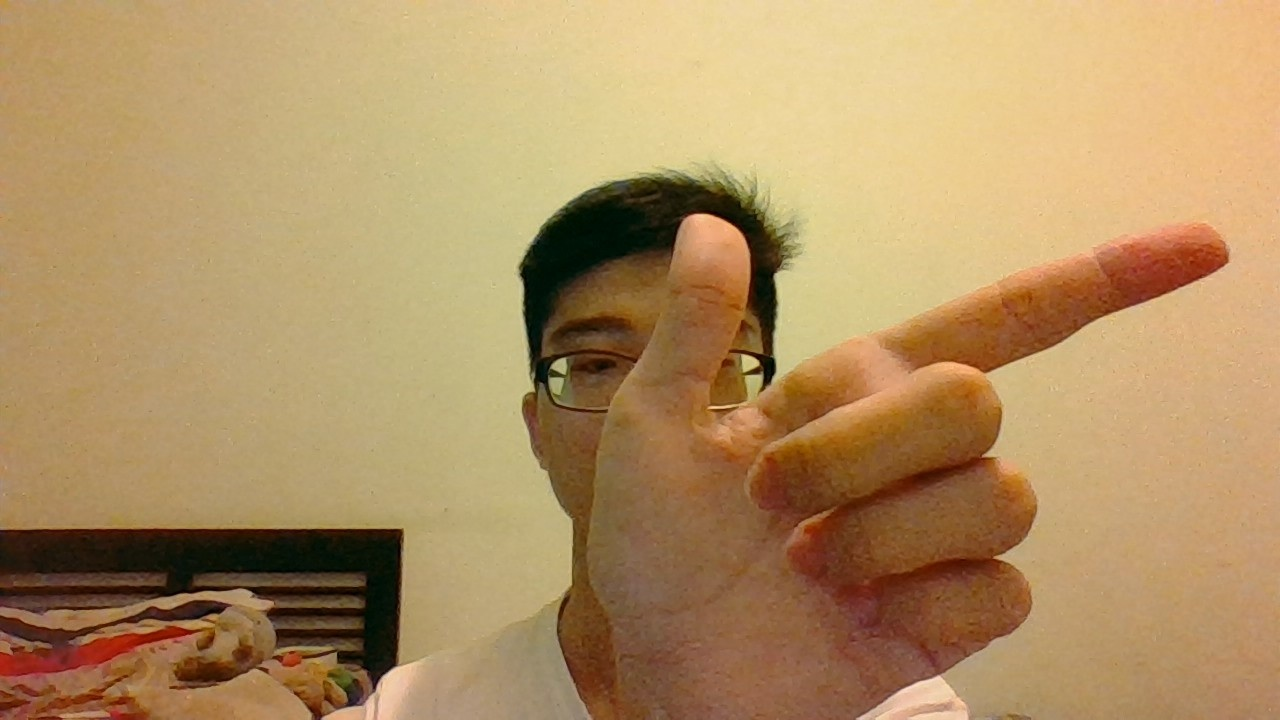Yes: (589, 209, 1236, 681)
